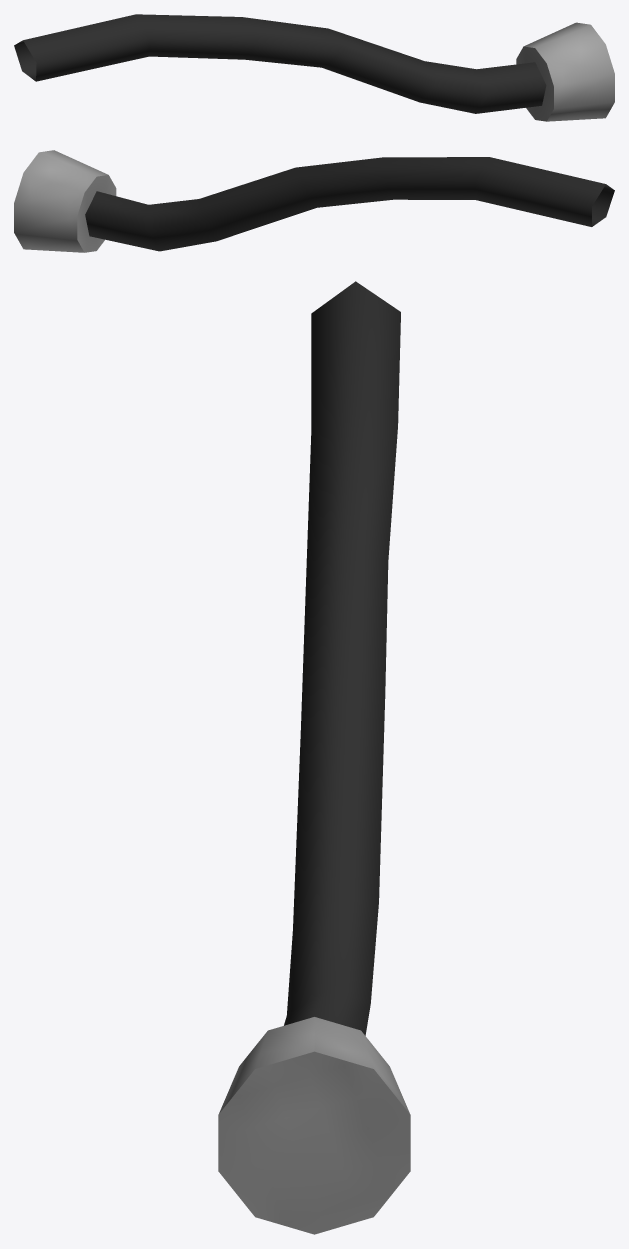
File: Wire_Connection_1X.fbx
The picture shows the model from 3 angles, top to bottom: view 1: azimuth 30°, elevation 25°; view 2: azimuth 150°, elevation 25°; view 3: azimuth 270°, elevation 25°; orthographic projection. The views are drawn at different scales.
Parts seen in each view (by area): view 1: Wire_Connection_1X; view 2: Wire_Connection_1X; view 3: Wire_Connection_1X.
Part boxes in pixels (<box>): Wire_Connection_1X: <box>14,14,614,121</box>; Wire_Connection_1X: <box>14,150,614,252</box>; Wire_Connection_1X: <box>218,281,410,1234</box>.
Bounding box in the file's own units: 0.1999 × 0.07 × 0.0298.
